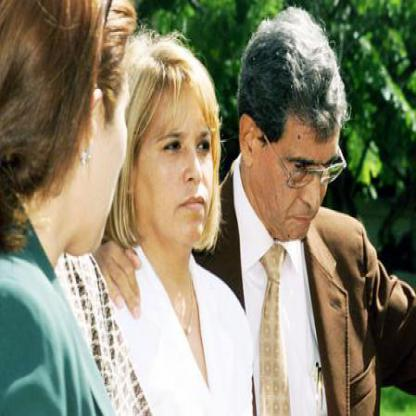face: (133, 46, 227, 254), (256, 41, 348, 245)
